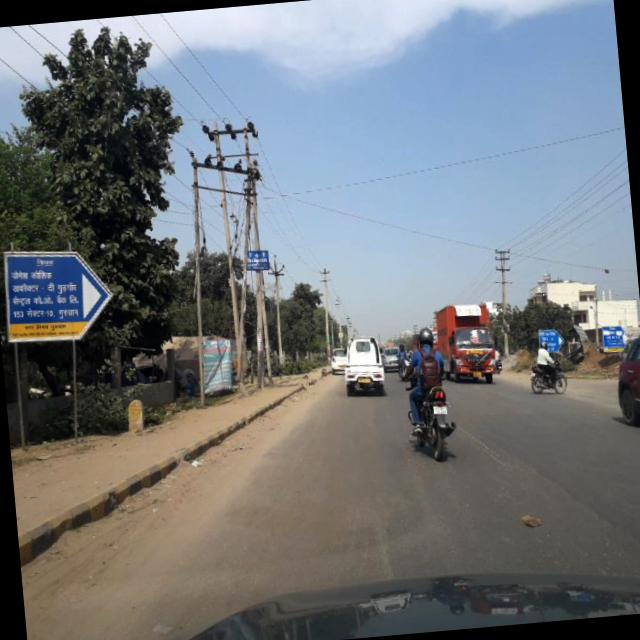pothole: (462, 416, 608, 533)
